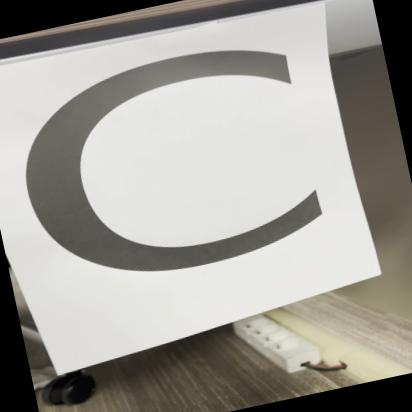seat: (0, 0, 383, 391)
